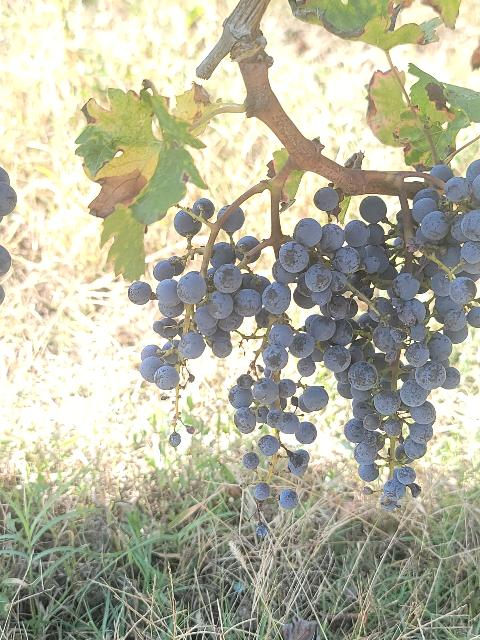grapes: (295, 161, 480, 510), (129, 236, 355, 502)
